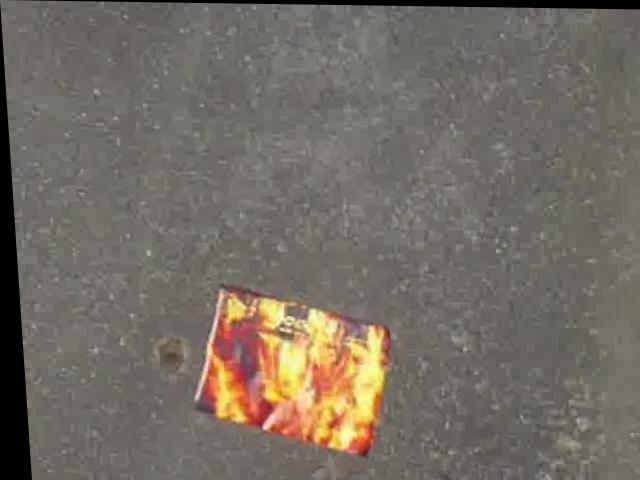fire-poster: (180, 285, 393, 462)
